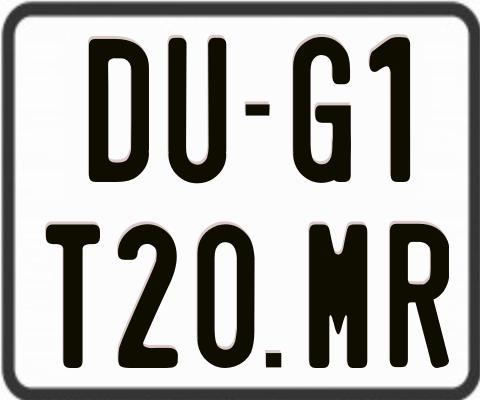0: (196, 222, 259, 371)
1: (367, 37, 409, 185)
2: (118, 223, 180, 368)
D: (86, 36, 149, 182)
G: (291, 35, 350, 183)
M: (307, 222, 370, 368)
R: (387, 222, 449, 372)
T: (43, 222, 97, 369)
U: (165, 35, 228, 181)
